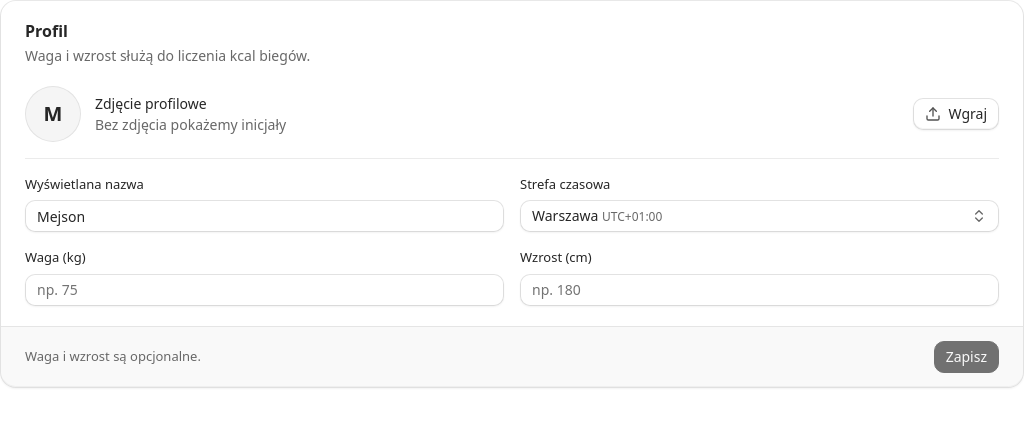
ProfileCard › pusta nazwa → błąd pod polem i Zapisz nieaktywne
The width and height of the screenshot is (1024, 427).
Clear the field labelled "Wyświetlana nazwa" at (264, 216), box [25,200,504,232]
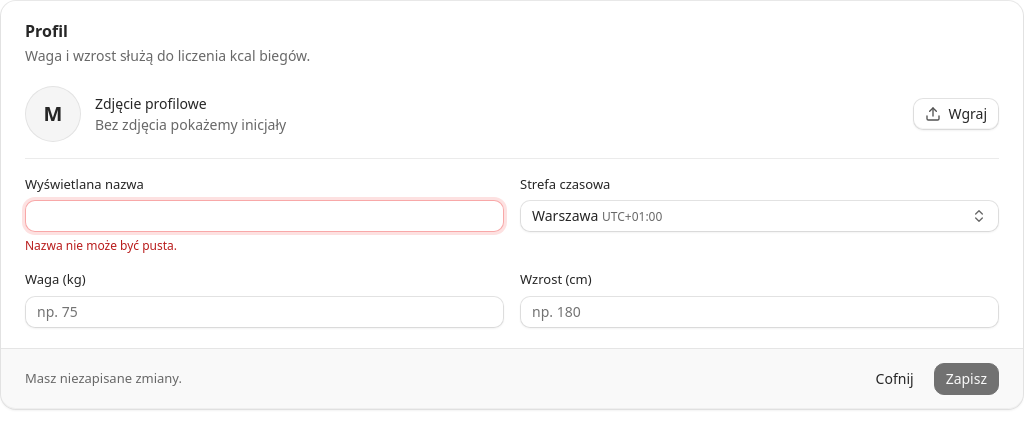
Expected: the button "Zapisz" is disabled, [934,363,999,395]
Now the text "Nazwa nie może być pusta." is shown, box [25,237,177,254]
